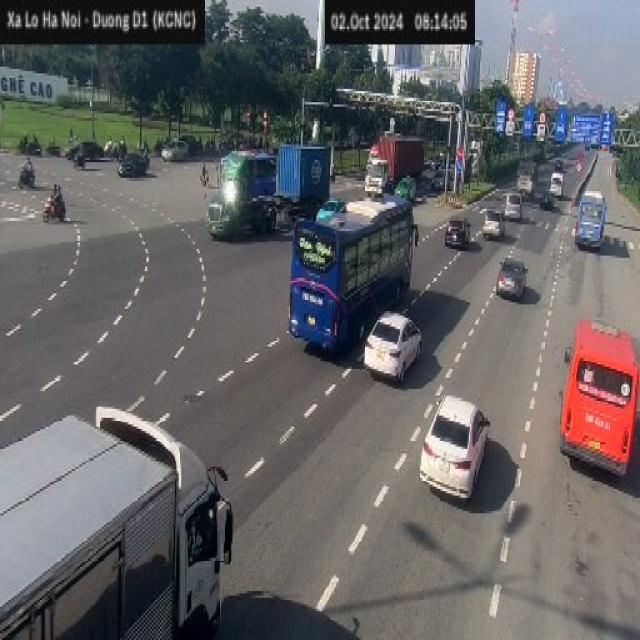bus: (289, 179, 424, 368), (572, 180, 612, 259)
car: (418, 384, 494, 534), (356, 302, 420, 384), (495, 251, 529, 320), (67, 132, 112, 173), (480, 205, 508, 263), (112, 153, 159, 185), (500, 185, 531, 232), (445, 211, 470, 259), (160, 134, 192, 169), (544, 168, 570, 196)
container-truck: (207, 135, 333, 248), (367, 126, 441, 188)
motorcycle: (40, 199, 77, 228), (13, 162, 42, 192), (68, 153, 95, 166), (42, 146, 68, 159), (15, 136, 32, 153)
person: (47, 174, 73, 200), (15, 152, 39, 174), (48, 130, 66, 143)
truck: (0, 411, 240, 638), (561, 305, 640, 491), (502, 146, 544, 193)
